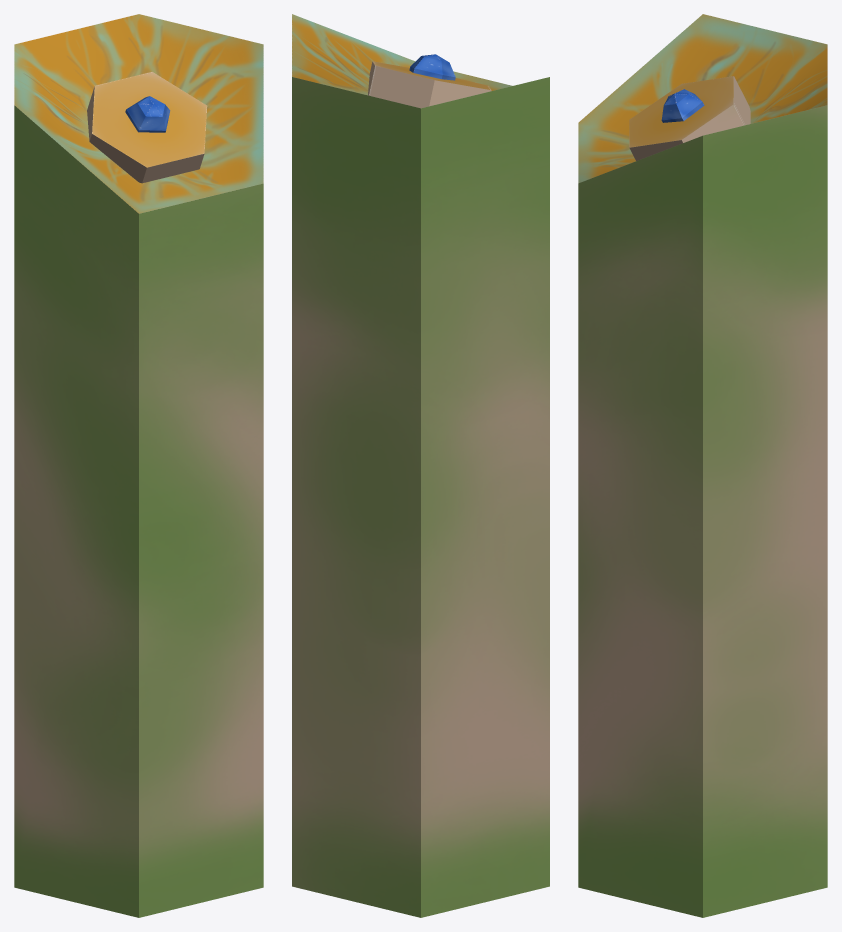
The model's file is Knop.fbx.
3 renders of one model, left to right at view 1: azimuth 30°, elevation 25°; view 2: azimuth 150°, elevation 25°; view 3: azimuth 270°, elevation 25°, orthographic. The views are drawn at different scales.
Parts seen in each view (by area): view 1: pCylinder12; view 2: pCylinder12; view 3: pCylinder12.
Boxes of the visible parts, bbox=[...] form: pCylinder12: bbox=[14, 14, 263, 917]; pCylinder12: bbox=[292, 14, 549, 917]; pCylinder12: bbox=[578, 14, 827, 917].
Size of the model in its own units: 0.4541 by 1.36 by 0.3933.
1 material, 1 textured.
